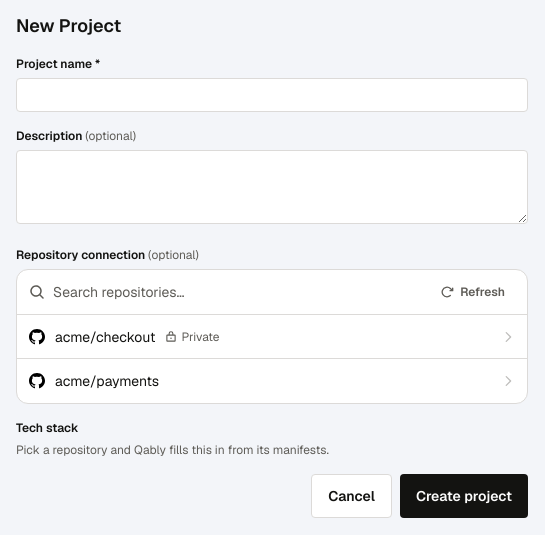
it: NewProjectForm against the api › shows the pending label while the request is in flight
The width and height of the screenshot is (545, 535).
In the field labelled "Project name *": (272, 95) left=16, top=78, right=528, bottom=112, type "Shop"
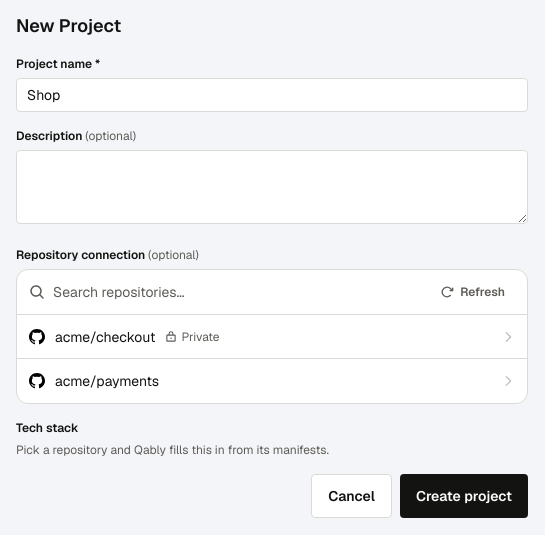
Click the button "Create project": (464, 496) left=400, top=474, right=528, bottom=518
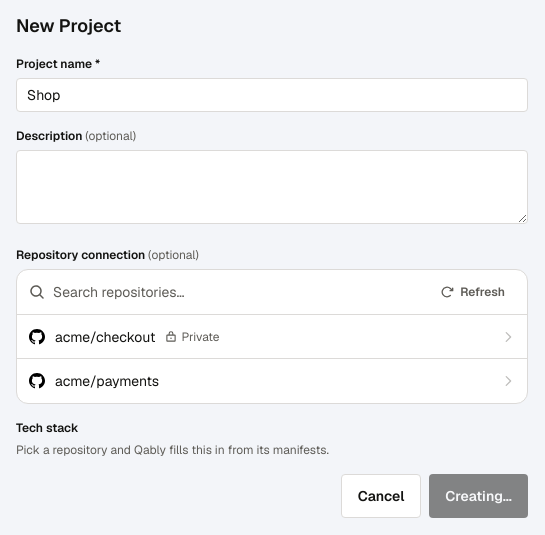
Result: the button "Creating…" is shown at left=429, top=474, right=528, bottom=518
